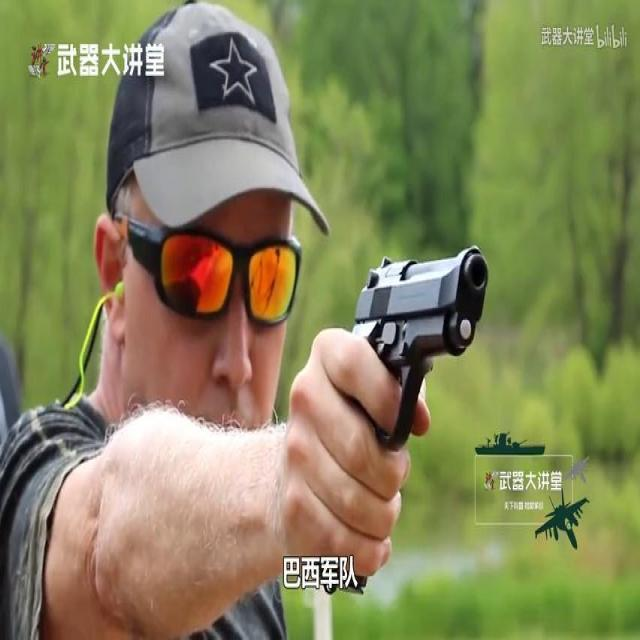Handgun: (332, 232, 488, 504)
